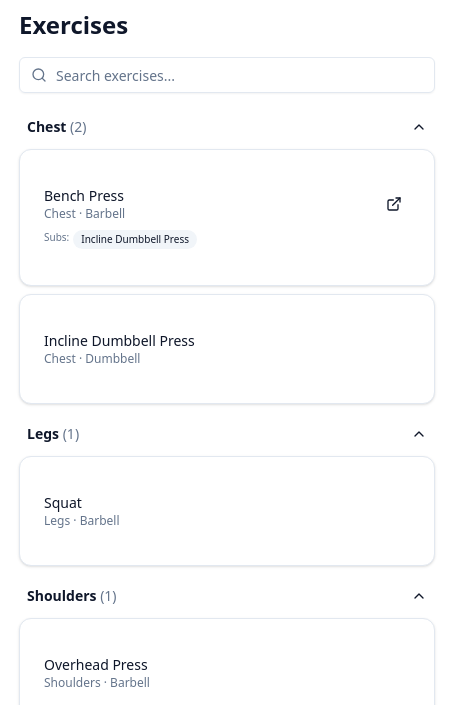
Test: Exercises page › filters exercises by search
Expected: the text "Bench Press" is shown, [44,186,124,205]
Type "bench" into the field with placeholder "Search exercises...".
click(227, 75); type("bench")  # box [19,57,435,93]
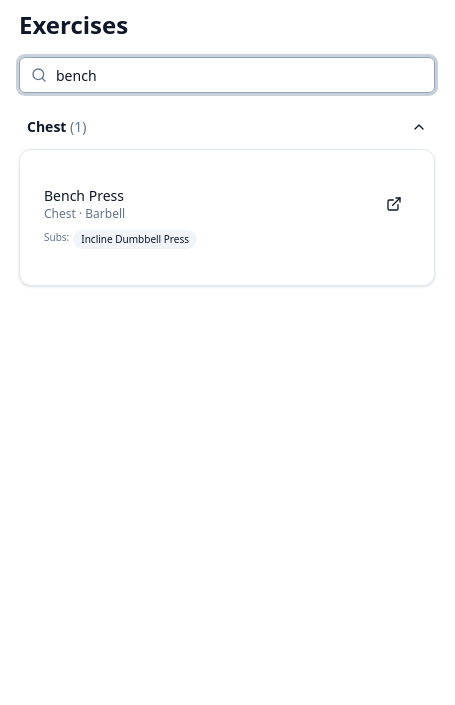
Expected: the text "Bench Press" is shown, [44,186,124,205]
Expected: the text "Squat" is gone
Expected: the text "Overhead Press" is gone
